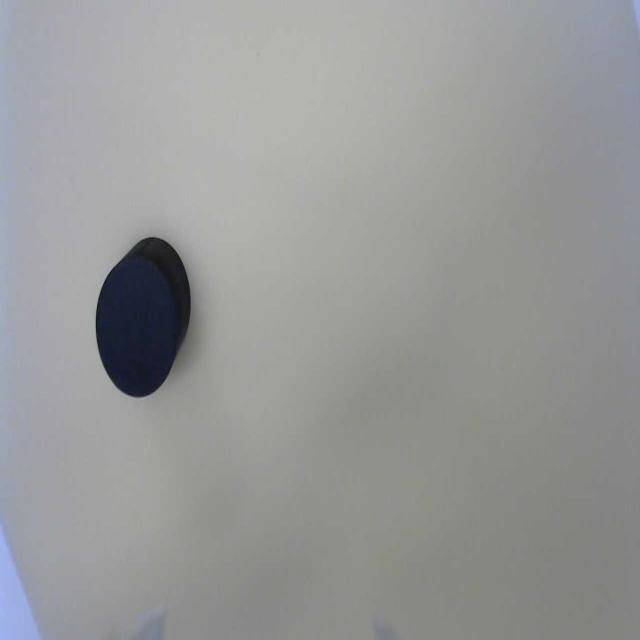circle: (96, 258, 179, 403)
